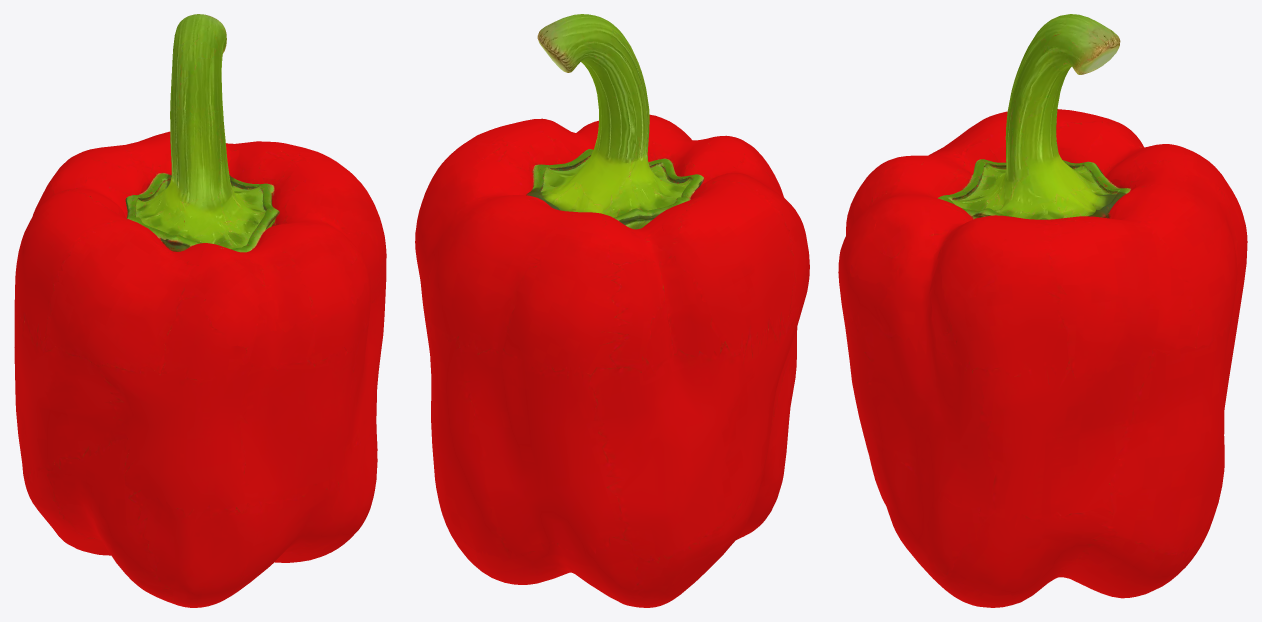
The model's file is kitchen-bell-pepper-05.glb.
The picture shows the model from 3 angles, left to right: view 1: azimuth 30°, elevation 25°; view 2: azimuth 150°, elevation 25°; view 3: azimuth 270°, elevation 25°; orthographic projection. The views are drawn at different scales.
Size of the model in its own units: 1.22 by 1.9 by 1.26.
1 material, 1 textured.
